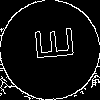E: (25, 25, 74, 63)
